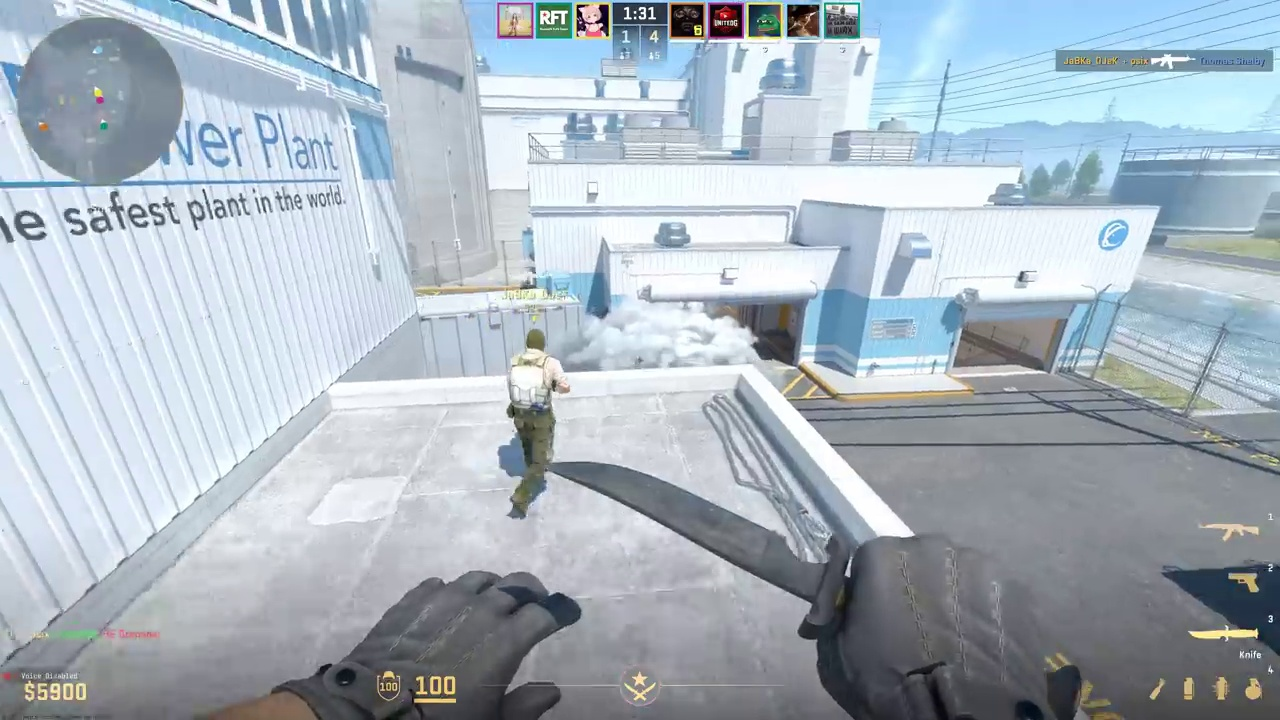Terrorist: (507, 328, 559, 518)
